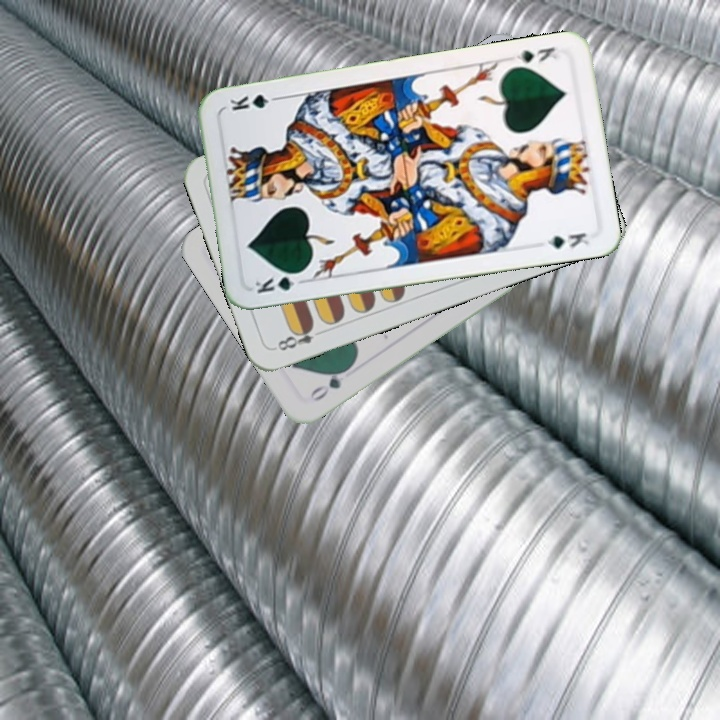E8: (270, 320, 328, 354)
GK: (251, 268, 307, 296), (512, 43, 560, 65)
GO: (304, 362, 354, 405)
